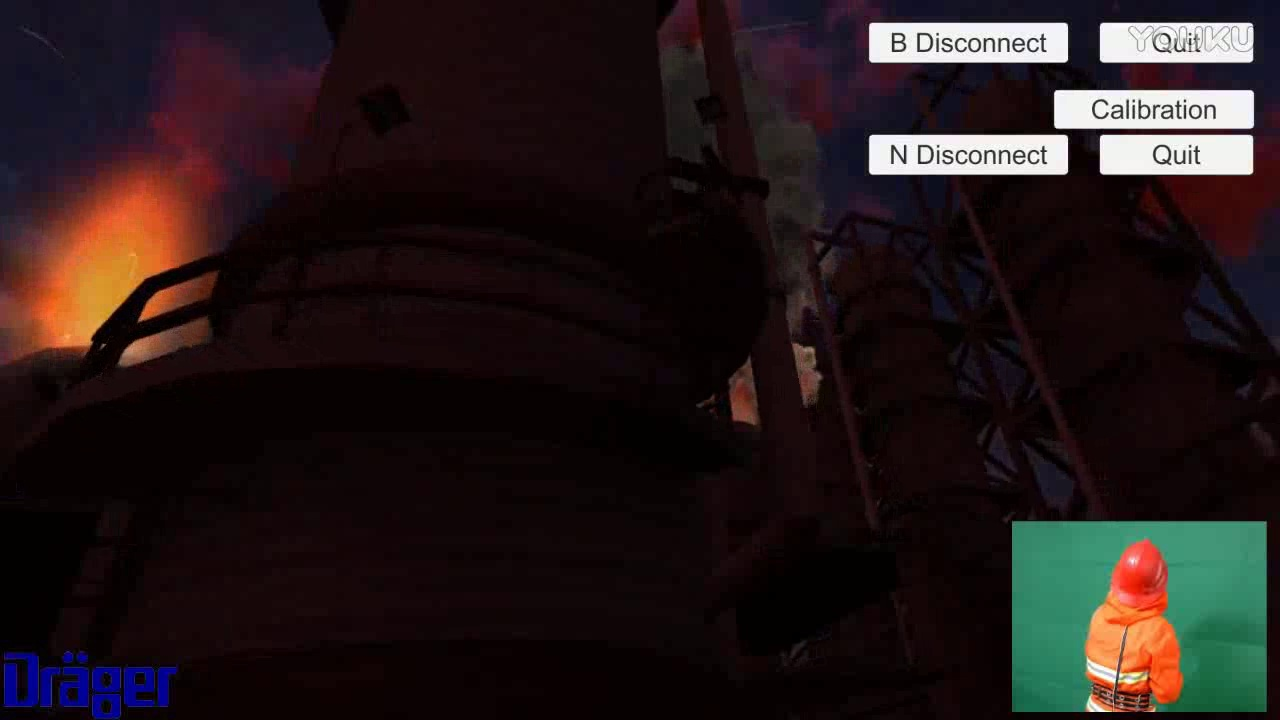fire: (22, 142, 227, 371)
